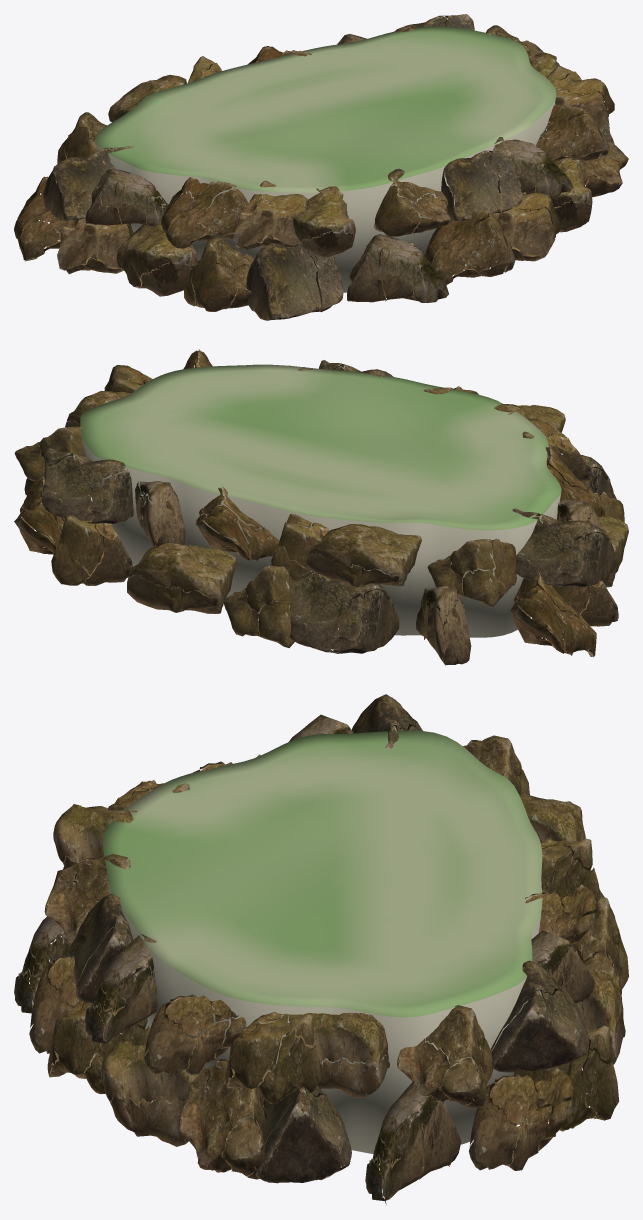
File: terraced_island_v6_1.glb
3 renders of one model, top to bottom at view 1: azimuth 30°, elevation 25°; view 2: azimuth 150°, elevation 25°; view 3: azimuth 270°, elevation 25°, orthographic. The views are drawn at different scales.
Visible parts, largest first — view 1: Merged_individual_rock_buttresses, Road_Clearance_Turf; view 2: Merged_individual_rock_buttresses, Road_Clearance_Turf; view 3: Merged_individual_rock_buttresses, Road_Clearance_Turf.
Part boxes in pixels (left/top/right/bottom): Merged_individual_rock_buttresses: left=14, top=14, right=628, bottom=320; Road_Clearance_Turf: left=95, top=26, right=556, bottom=292; Merged_individual_rock_buttresses: left=14, top=349, right=628, bottom=665; Road_Clearance_Turf: left=80, top=364, right=561, bottom=637; Merged_individual_rock_buttresses: left=14, top=694, right=628, bottom=1204; Road_Clearance_Turf: left=103, top=730, right=542, bottom=1154.
Bounding box in the file's own units: 35.6 × 6.88 × 24.33.
2 materials, 1 textured.
